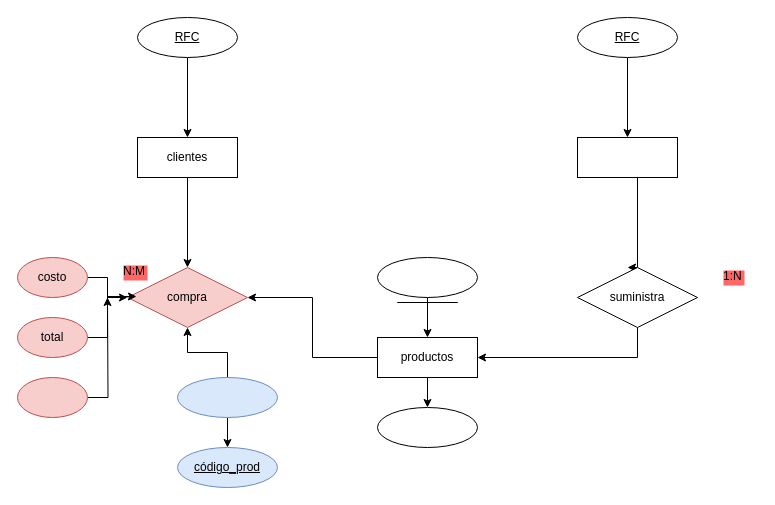
Image size: 775x505. Some labels were removed from this diagram. The centre of each missing label's shape, as x and y in pixels:
"código" goes at point (427, 427).
"fecha" goes at point (52, 397).
"proveedores" goes at point (627, 157).
"RFC _proveedor" goes at point (427, 277).
"RFC_" goes at point (227, 397).
